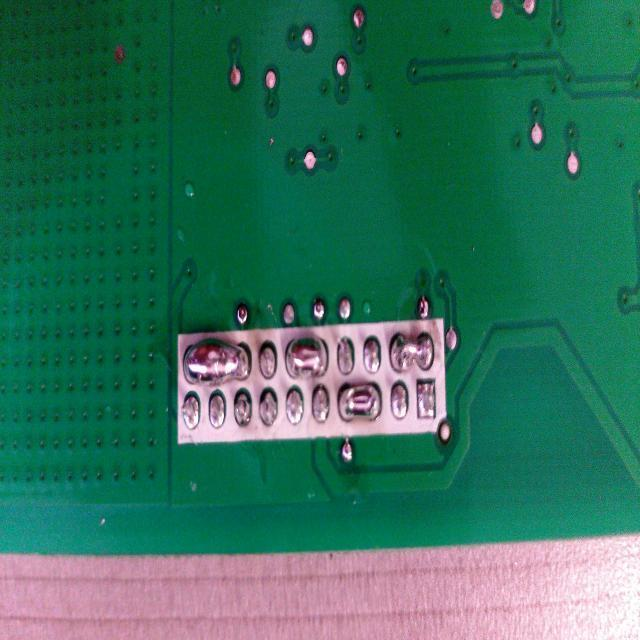Soldering shorted: (180, 338, 254, 386), (284, 332, 330, 382), (338, 378, 382, 429), (387, 334, 438, 374)
